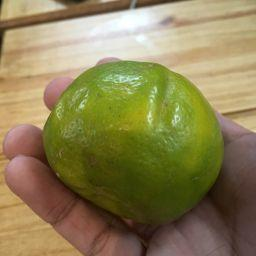Unripe: (44, 63, 225, 232)
